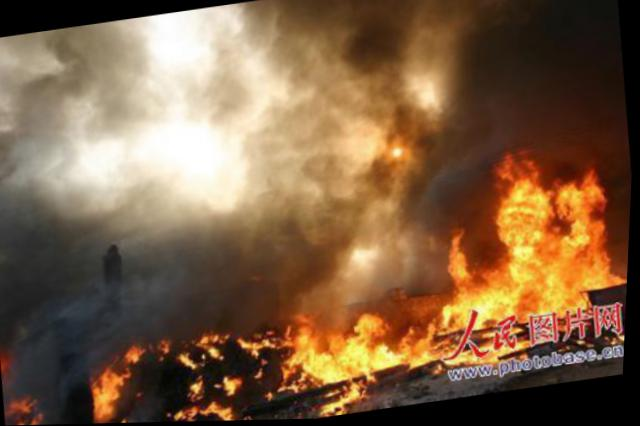fire: (285, 309, 399, 387), (470, 259, 588, 327), (492, 167, 562, 274), (550, 178, 611, 264), (445, 228, 479, 289), (87, 368, 126, 421), (433, 290, 471, 330), (401, 327, 437, 368), (582, 256, 620, 290), (239, 333, 273, 349), (186, 375, 204, 402), (222, 374, 242, 395), (206, 339, 224, 361), (123, 344, 142, 361), (179, 349, 196, 368), (175, 407, 196, 420), (218, 405, 237, 419), (200, 403, 216, 413)
